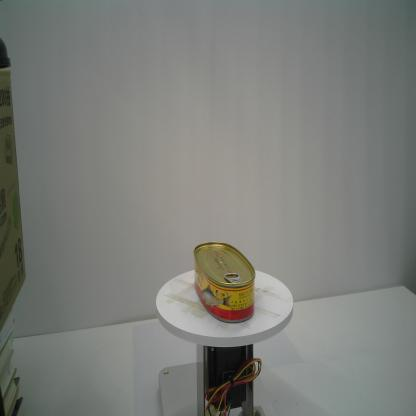Canned Food: (193, 240, 257, 326)
